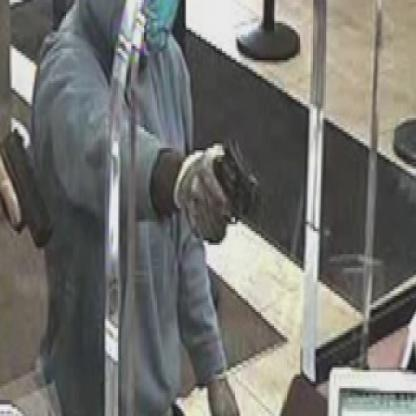gun: (0, 113, 59, 262), (207, 123, 266, 238)
